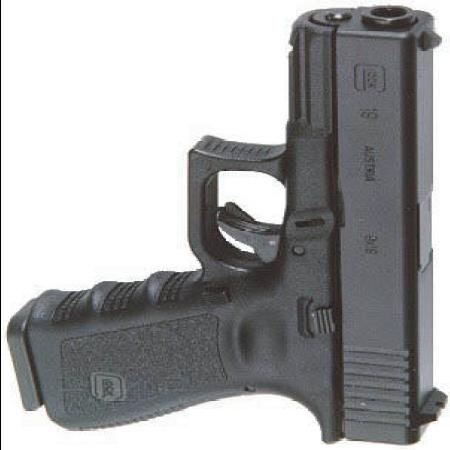Pistol: (10, 8, 448, 444)
